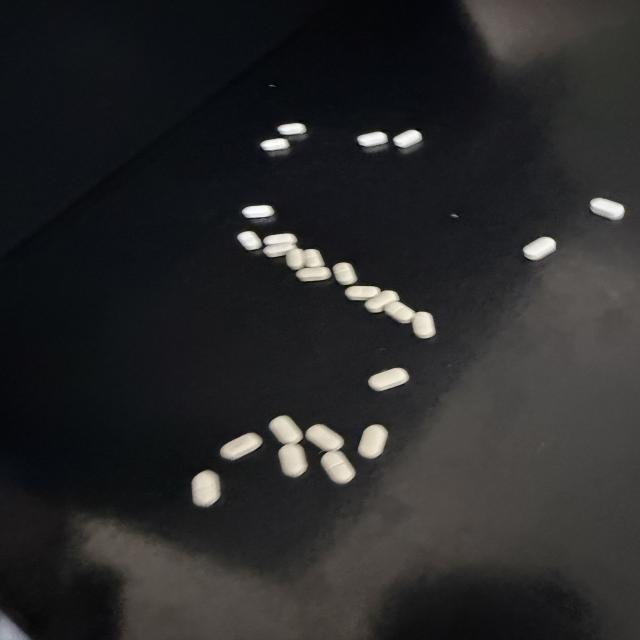pill: (220, 433, 262, 460), (321, 451, 355, 484), (192, 470, 220, 507), (358, 425, 387, 459), (306, 424, 343, 450), (269, 416, 302, 444), (279, 444, 307, 477), (369, 368, 409, 391), (523, 237, 556, 260), (365, 290, 398, 312), (590, 198, 624, 219), (384, 301, 414, 323), (412, 312, 435, 338), (333, 263, 357, 285), (393, 130, 422, 148), (345, 286, 380, 300), (296, 267, 331, 281), (238, 231, 262, 250), (357, 132, 387, 147), (263, 243, 295, 257), (277, 122, 307, 136), (242, 205, 274, 218), (263, 233, 297, 245), (286, 248, 303, 270), (261, 138, 289, 151), (304, 249, 324, 267)
